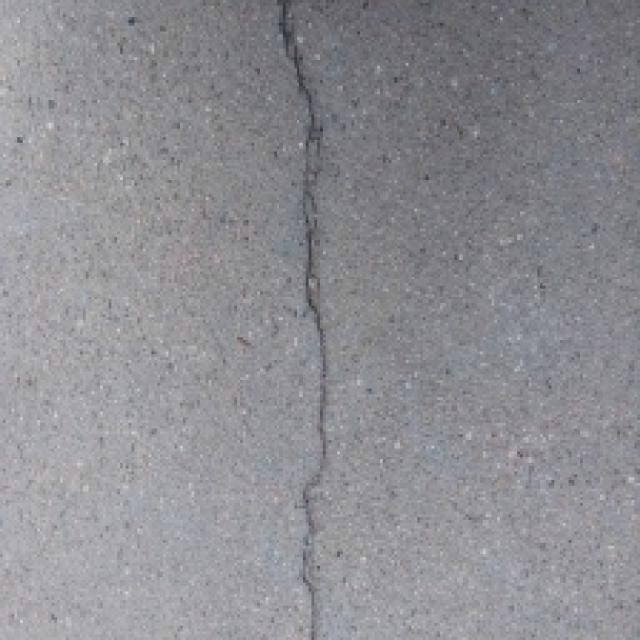SurfaceCrack: (224, 0, 358, 638)
